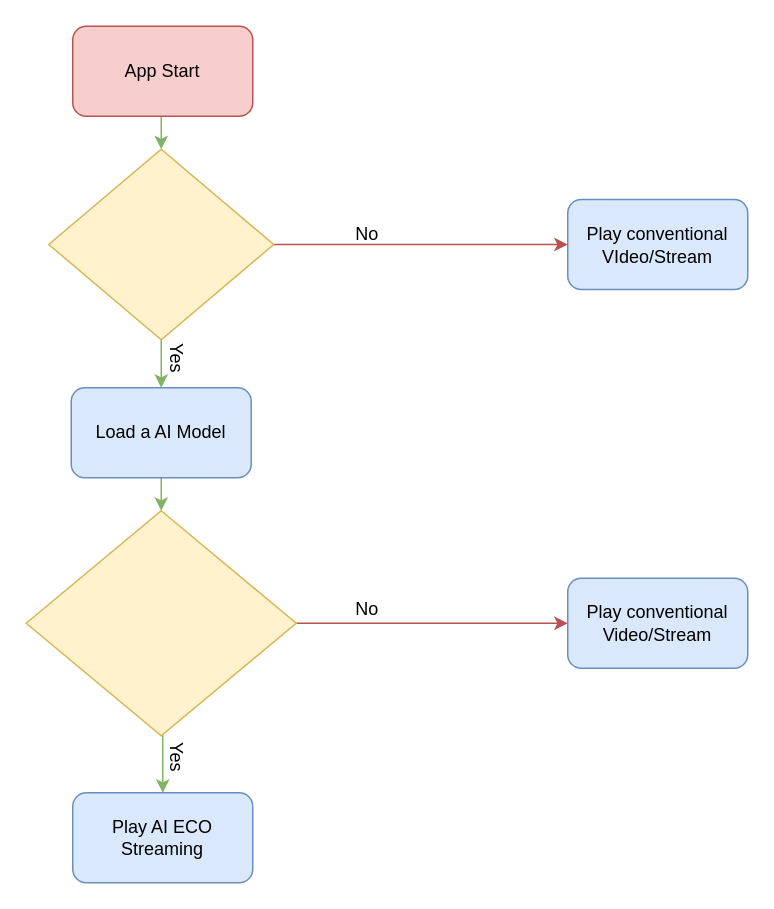
Image size: 774x909. Some labels were removed from this diagram. The shapes that lost their labels are listed below. From the top down, each one's centre as x and y in pixels, then its label:
(160,244): Load OpenCl/GL(Androiid) /Metal(IOS)
(160,622): Is Realtime with AI? (Video FPS)
